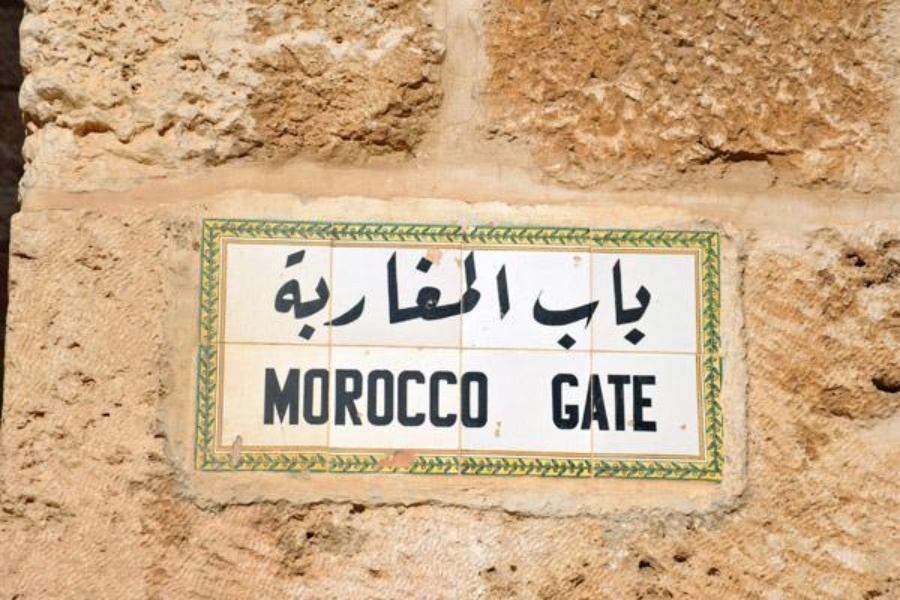text: (545, 257, 560, 350), (561, 257, 576, 350), (577, 257, 592, 350), (593, 257, 608, 350), (609, 257, 624, 350), (625, 257, 640, 350), (289, 248, 304, 341), (305, 248, 320, 341), (321, 248, 336, 341), (337, 248, 352, 341), (353, 248, 368, 341), (369, 248, 384, 341), (385, 248, 400, 341), (401, 248, 416, 341), (417, 248, 432, 341), (433, 248, 448, 341), (449, 248, 464, 341), (465, 248, 480, 341), (481, 248, 496, 341), (497, 248, 512, 341), (274, 248, 288, 341), (533, 257, 544, 350), (273, 367, 288, 430), (289, 367, 304, 430), (305, 367, 320, 430), (321, 367, 336, 430), (337, 367, 352, 430), (353, 367, 368, 430), (369, 367, 384, 430), (385, 367, 400, 430), (401, 367, 416, 430), (417, 367, 432, 430), (433, 367, 448, 430), (449, 367, 464, 430), (465, 367, 480, 430), (561, 373, 576, 433), (577, 373, 592, 433), (593, 373, 608, 433), (609, 373, 624, 433), (625, 373, 640, 433), (641, 373, 656, 433), (641, 257, 650, 350), (262, 367, 272, 430), (481, 367, 488, 430), (553, 373, 560, 433), (657, 373, 659, 433), (513, 248, 514, 341)
